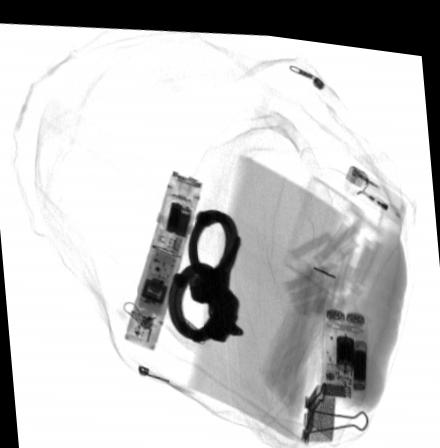Baton: (126, 164, 202, 346)
HandCuffs: (166, 199, 245, 337)
Lighter: (342, 155, 408, 213)
